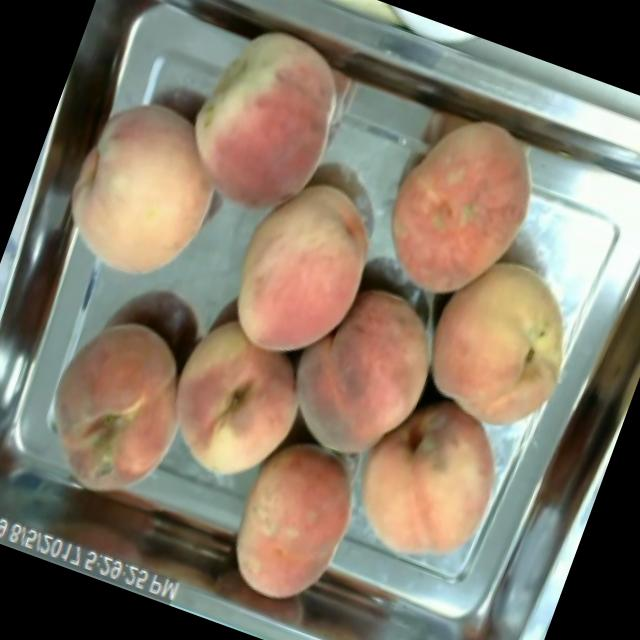Fruit: (162, 5, 372, 238), (255, 258, 467, 488), (41, 75, 251, 307), (396, 234, 609, 458), (323, 368, 534, 594), (357, 99, 563, 330), (18, 292, 220, 520), (205, 156, 402, 384), (138, 296, 334, 509), (202, 418, 382, 630)
